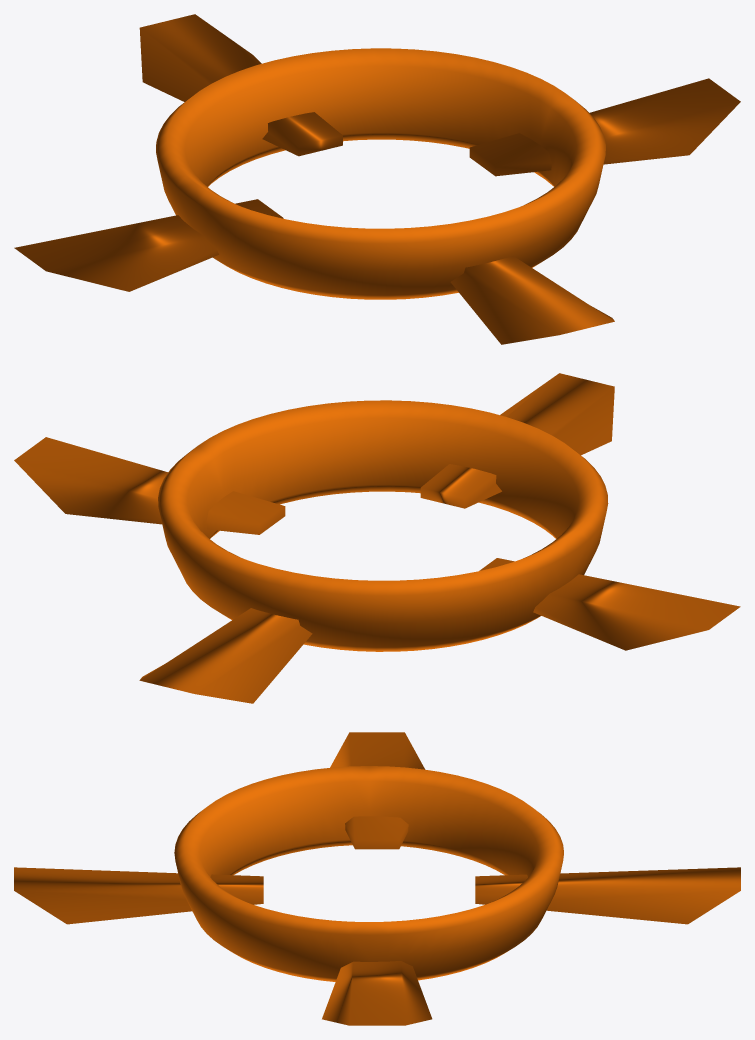
File: sight 1.fbx
3 views of the same model, one above another, from view 1: azimuth 30°, elevation 25°; view 2: azimuth 150°, elevation 25°; view 3: azimuth 270°, elevation 25° (orthographic). The views are drawn at different scales.
Parts seen in each view (by area): view 1: Cube.001; view 2: Cube.001; view 3: Cube.001.
Part boxes in pixels (x1,y1,x2,y2): Cube.001: (14,14,740,344); Cube.001: (14,373,740,703); Cube.001: (14,732,740,1025).
Size of the model in its own units: 395 by 44.03 by 413.
